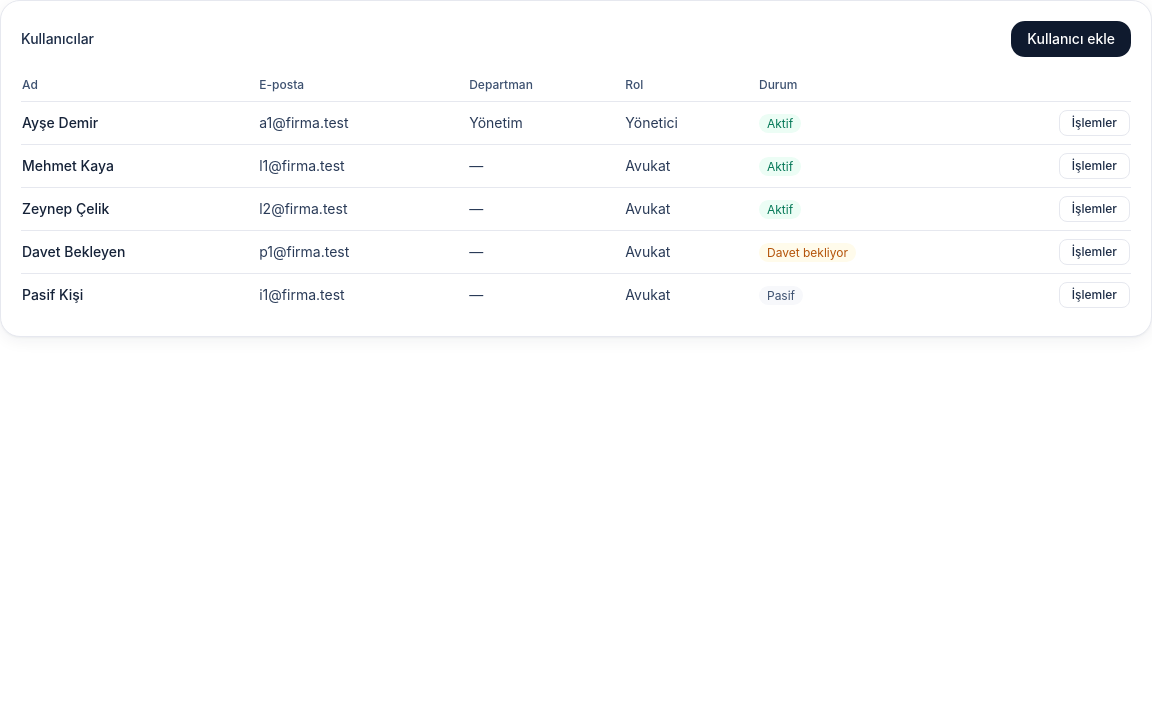
Scenario: UsersPanel › edits a user and sends only the changed fields; the admin's own role is not editable
Check: the table is shown, box [21,69,1131,316]
Click the button with aria-label "İşlemler, Mehmet Kaya" at (1094, 166), box [1059,153,1130,179]
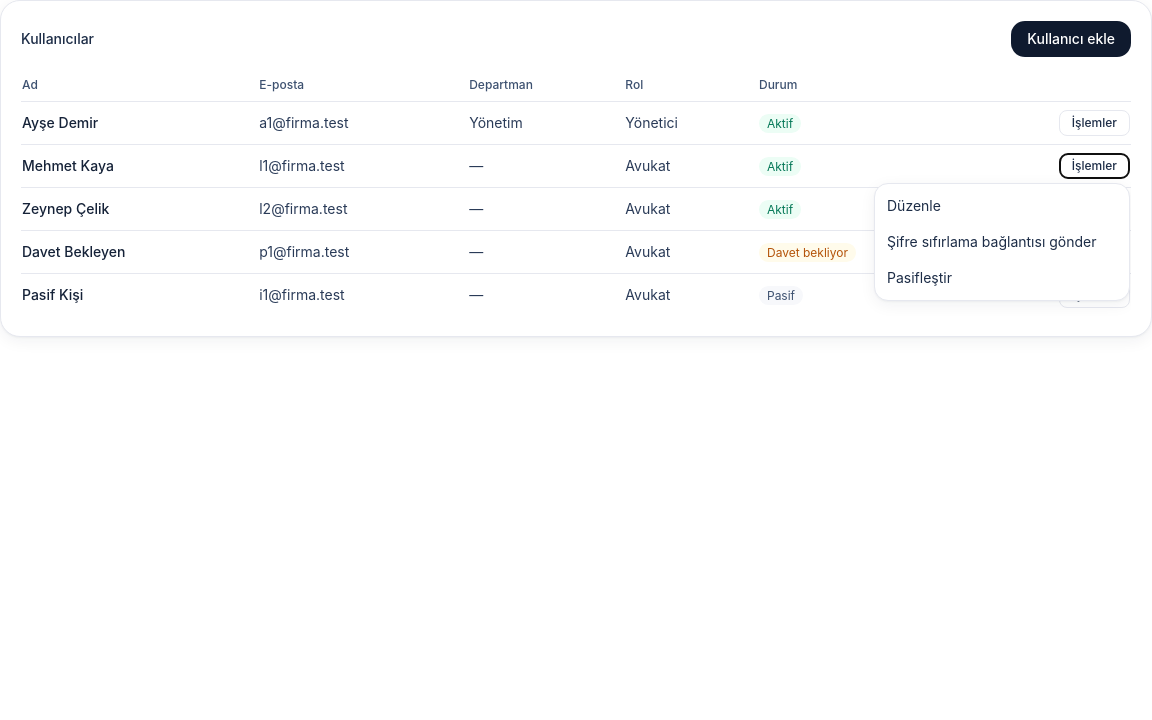
Click the menu item "Düzenle" at (1002, 206), box [875,188,1129,224]
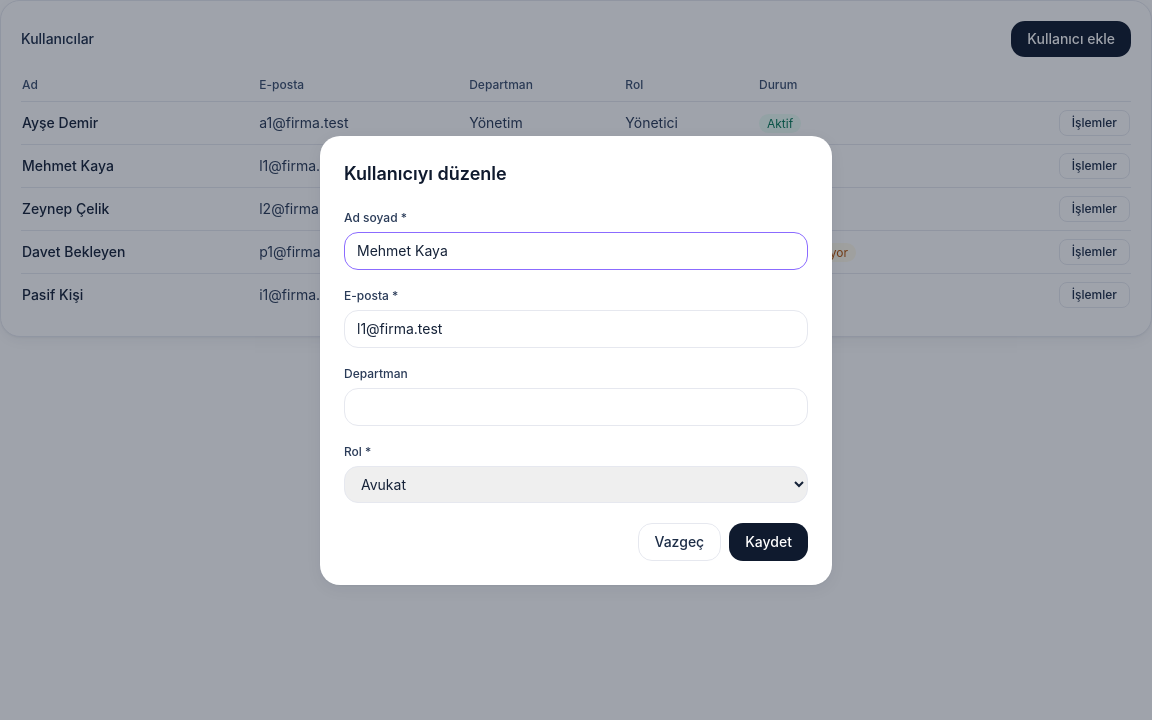
Type "Ticaret" into the field labelled "Departman" at (576, 406), box [344,388,808,426]
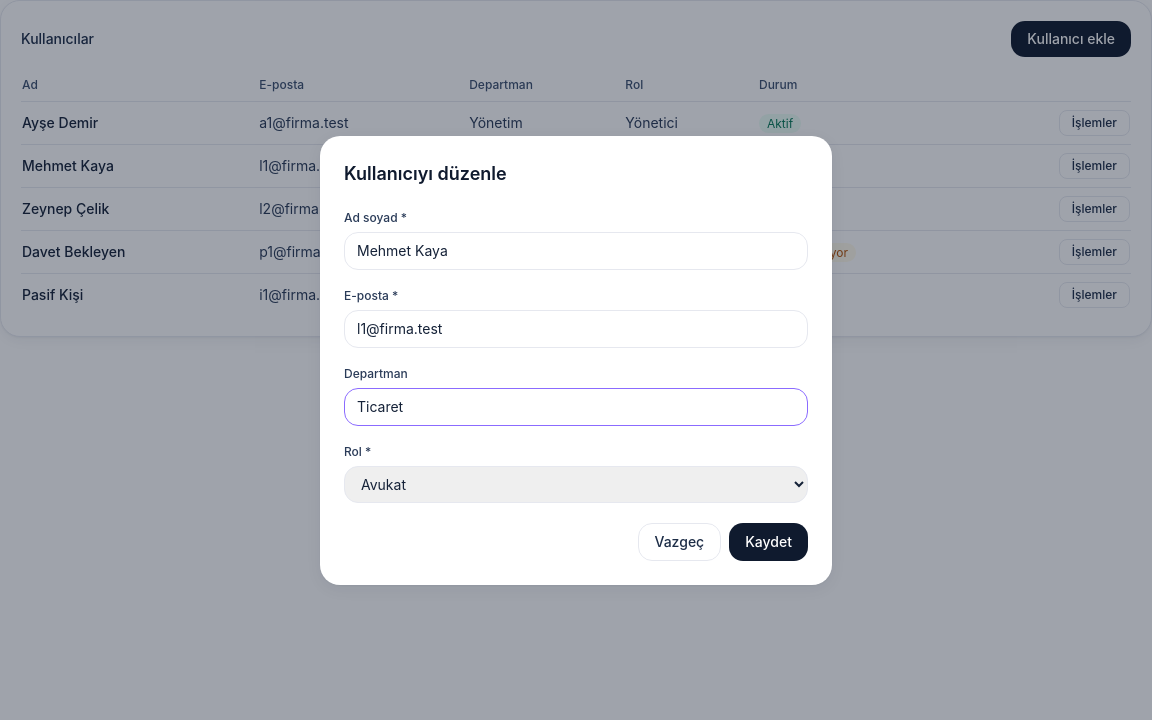
Click the button "Kaydet" at (769, 542), box [729,522,808,560]
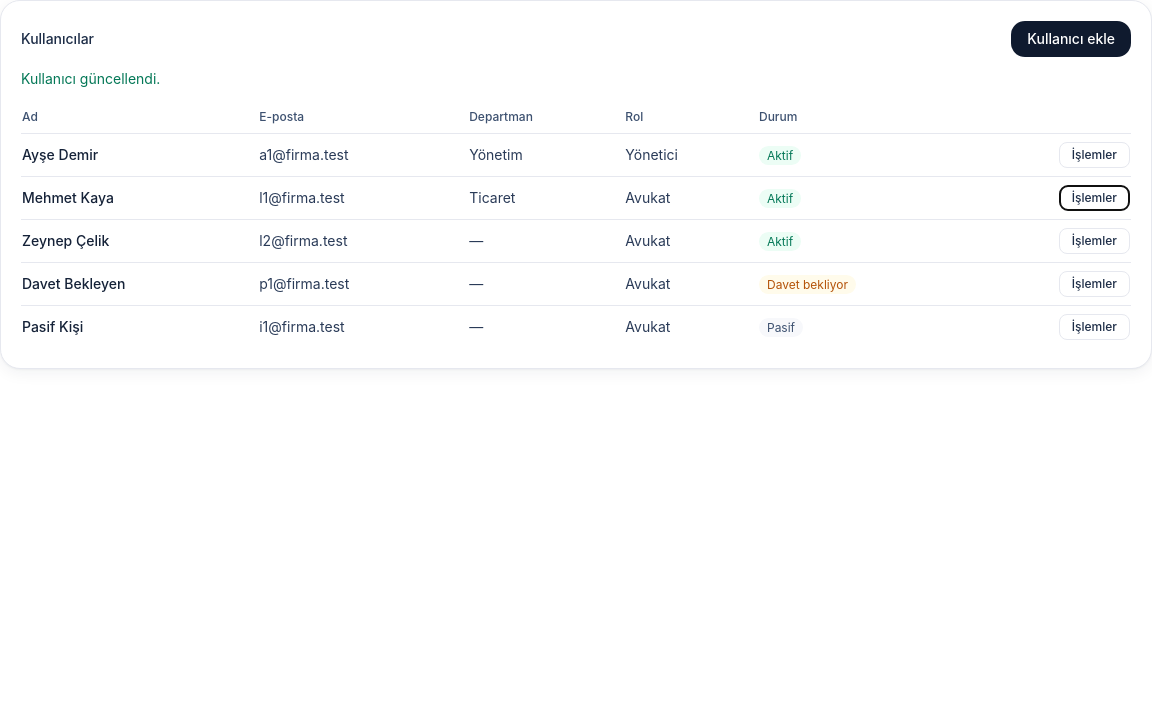
Check: the message reads "Kullanıcı güncellendi.", box [21,70,160,87]
Click the button with aria-label "İşlemler, Ayşe Demir" at (1094, 155), box [1059,142,1130,168]
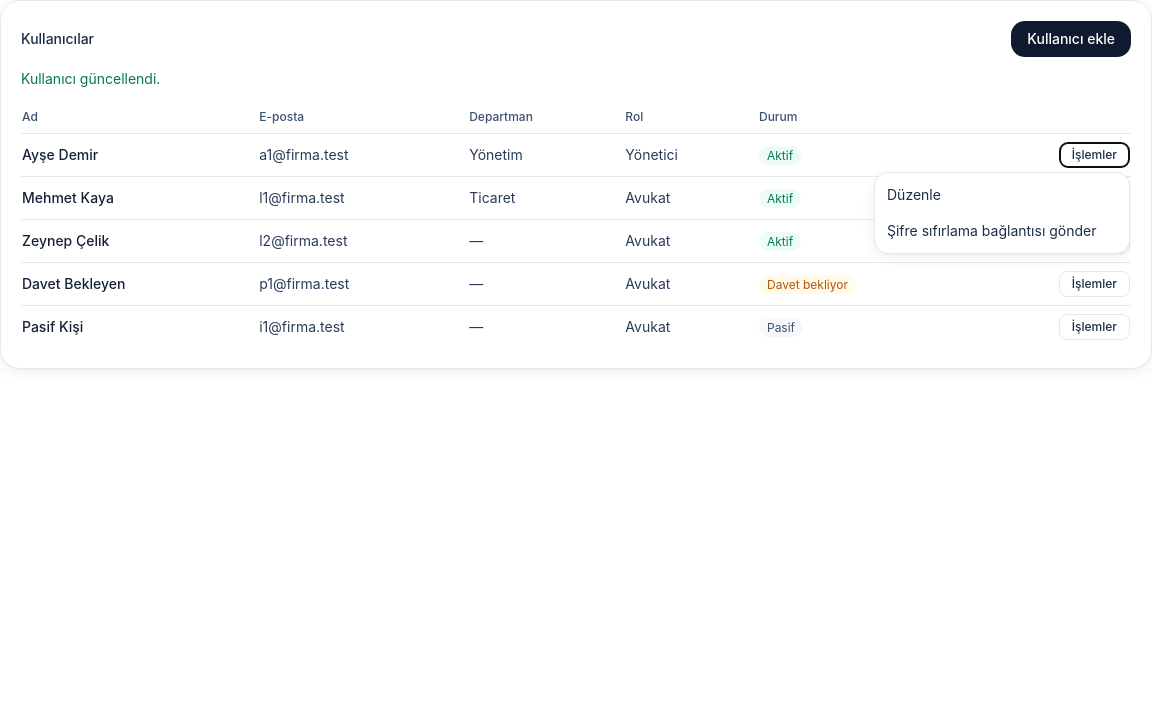
Click the menu item "Düzenle" at (1002, 195), box [875,177,1129,213]
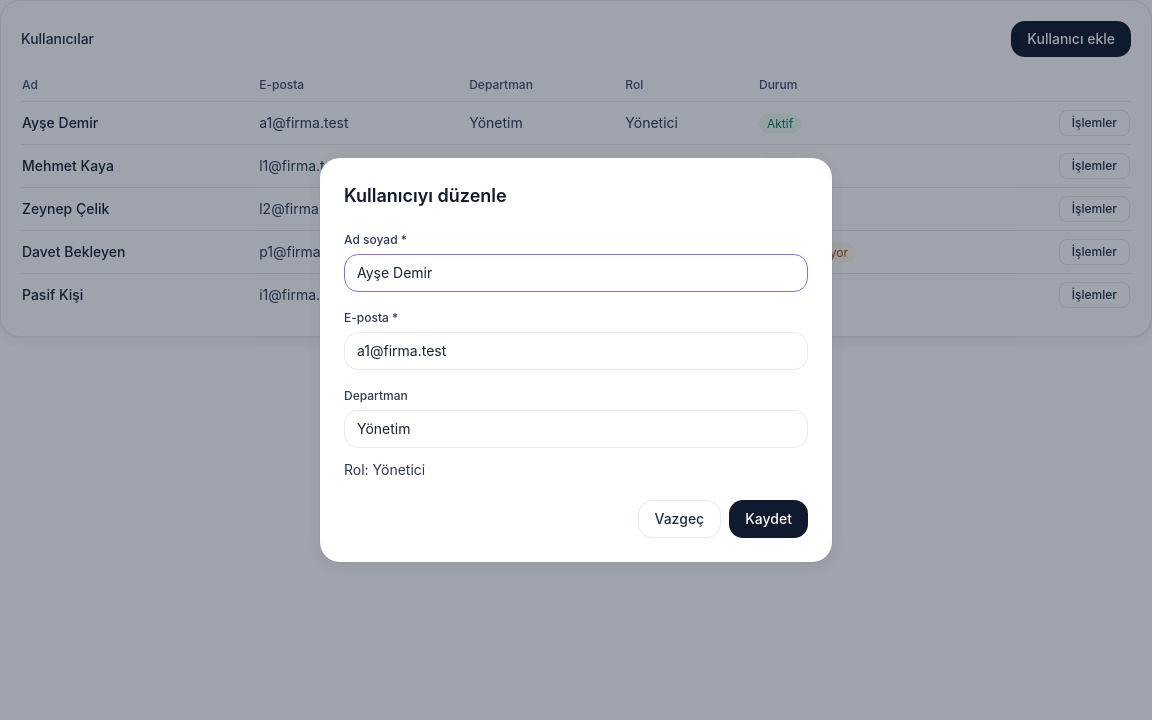
Check: the field labelled "Rol *" is not shown
Check: the text "Rol: Yönetici" is shown, box [344,461,425,478]
